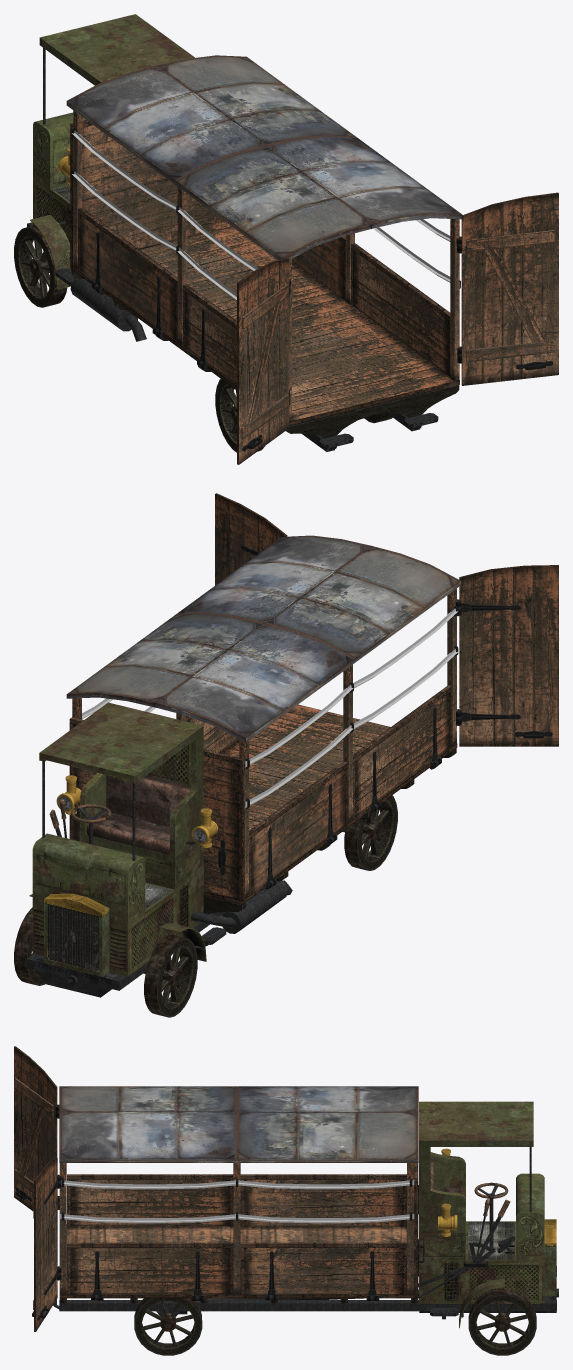
The model's file is truck_openrear_nostarthandle.dae.
3 views of the same model, one above another, from view 1: azimuth 30°, elevation 25°; view 2: azimuth 150°, elevation 25°; view 3: azimuth 270°, elevation 25° (orthographic). The views are drawn at different scales.
Visible parts, largest first — view 1: Box082, Box081, Box084, Object061, Box080, Box083, Object060; view 2: Box082, Box081, Box084, Object061, Box080, Box083, Object060; view 3: Box082, Box081, Box084, Box080, Object061, Box083, Object060.
Part boxes in pixels (x1=…): Box082: x1=70, y1=110, x2=558, y2=464; Box081: x1=66, y1=55, x2=462, y2=260; Box084: x1=30, y1=14, x2=194, y2=289; Object061: x1=14, y1=225, x2=459, y2=452; Box080: x1=27, y1=48, x2=438, y2=451; Box083: x1=72, y1=128, x2=460, y2=299; Object060: x1=71, y1=127, x2=552, y2=451; Box082: x1=49, y1=493, x2=558, y2=904; Box081: x1=66, y1=535, x2=460, y2=742; Box084: x1=29, y1=702, x2=217, y2=976; Object061: x1=14, y1=748, x2=456, y2=1017; Box080: x1=26, y1=761, x2=345, y2=997; Box083: x1=82, y1=608, x2=457, y2=807; Object060: x1=218, y1=545, x2=552, y2=889; Box082: x1=14, y1=1046, x2=510, y2=1331; Box081: x1=59, y1=1086, x2=418, y2=1162; Box084: x1=419, y1=1101, x2=556, y2=1328; Box080: x1=53, y1=1147, x2=558, y2=1319; Object061: x1=59, y1=1289, x2=536, y2=1355; Box083: x1=60, y1=1180, x2=414, y2=1223; Object060: x1=15, y1=1104, x2=488, y2=1320.
Bounding box in the file's own units: 6.18 × 4.58 × 10.54.
